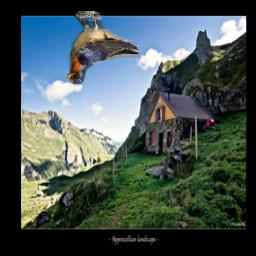Swallow: (67, 12, 140, 85)
